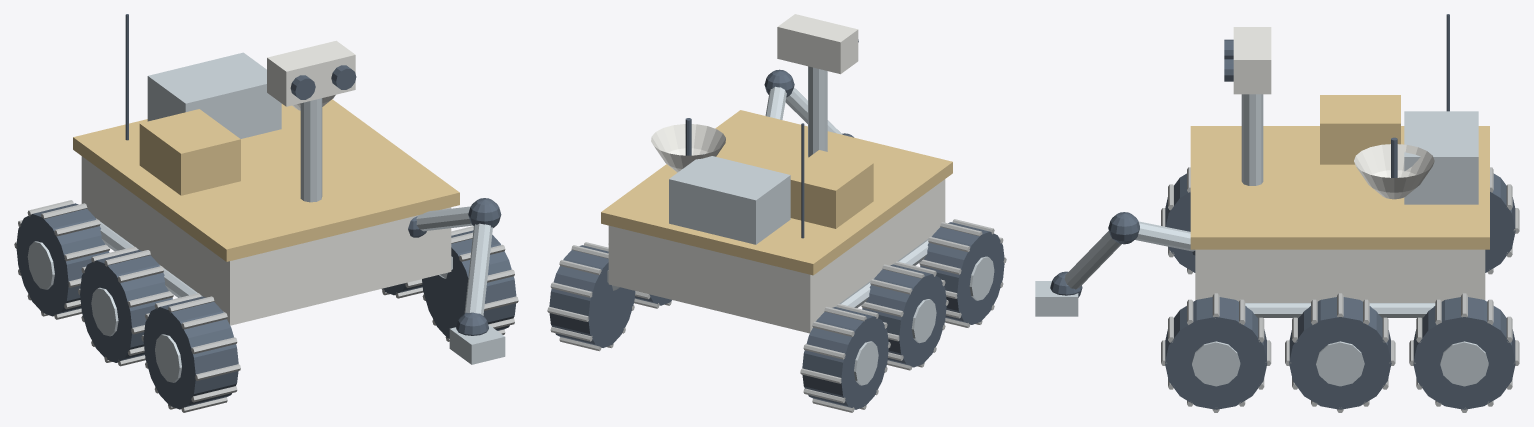
Rendered from 03_LunarRover.glb.
3 views of the same model, side by side, from view 1: azimuth 30°, elevation 25°; view 2: azimuth 150°, elevation 25°; view 3: azimuth 270°, elevation 25° (orthographic). The views are drawn at different scales.
Visible parts, largest first — view 1: Thermal_deck, Chassis, Power_module, Instrument_box, Left_Wheel_2, Left_Wheel_0, Left_Wheel_1, Right_Wheel_2, Camera_head, Camera_mast, Sample_arm_1, Sample_scoop (+10 smaller); view 2: Chassis, Thermal_deck, Power_module, Left_Wheel_0, Right_Wheel_0, Instrument_box, Left_Wheel_1, Left_Wheel_2, Camera_head, Comms, Camera_mast, Left_Wheel_2_hub (+7 smaller); view 3: Thermal_deck, Chassis, Right_Wheel_0, Right_Wheel_2, Right_Wheel_1, Power_module, Instrument_box, Comms, Camera_head, Camera_mast, Left_Wheel_0, Right_Wheel_0_hub (+8 smaller).
Part boxes in pixels (x1,y1,x2,y2): Thermal_deck: (73, 99, 459, 261); Chassis: (81, 156, 451, 325); Power_module: (147, 52, 281, 138); Instrument_box: (139, 109, 240, 195); Left_Wheel_2: (143, 296, 238, 409); Left_Wheel_0: (16, 203, 109, 316); Left_Wheel_1: (80, 250, 172, 362); Right_Wheel_2: (422, 230, 516, 338); Camera_head: (267, 40, 355, 106); Camera_mast: (300, 98, 322, 202); Sample_arm_1: (464, 223, 492, 315); Sample_scoop: (449, 324, 505, 364); Chassis: (608, 179, 945, 333); Thermal_deck: (601, 110, 952, 275); Power_module: (669, 154, 790, 244); Left_Wheel_0: (802, 307, 888, 409); Right_Wheel_0: (549, 245, 635, 347); Instrument_box: (786, 150, 873, 228); Left_Wheel_1: (862, 264, 946, 367); Left_Wheel_2: (920, 222, 1004, 324); Camera_head: (777, 14, 858, 74); Comms: (651, 124, 725, 172); Camera_mast: (808, 66, 827, 157); Left_Wheel_2_hub: (969, 256, 994, 300); Thermal_deck: (1190, 126, 1489, 249); Chassis: (1195, 249, 1485, 302); Right_Wheel_0: (1413, 297, 1515, 409); Right_Wheel_2: (1165, 297, 1267, 409); Right_Wheel_1: (1289, 297, 1391, 409); Power_module: (1404, 111, 1478, 204); Instrument_box: (1320, 95, 1400, 164); Comms: (1354, 144, 1434, 199); Camera_head: (1233, 27, 1271, 94); Camera_mast: (1241, 94, 1263, 185); Left_Wheel_0: (1485, 173, 1515, 272); Right_Wheel_0_hub: (1440, 341, 1488, 386).
Bounding box in the file's own units: 2.72 × 2.4 × 3.59.
